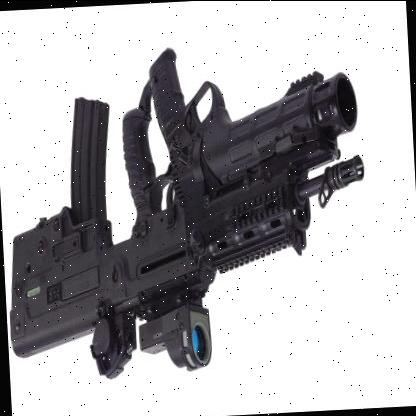rifle: (0, 36, 370, 404)
